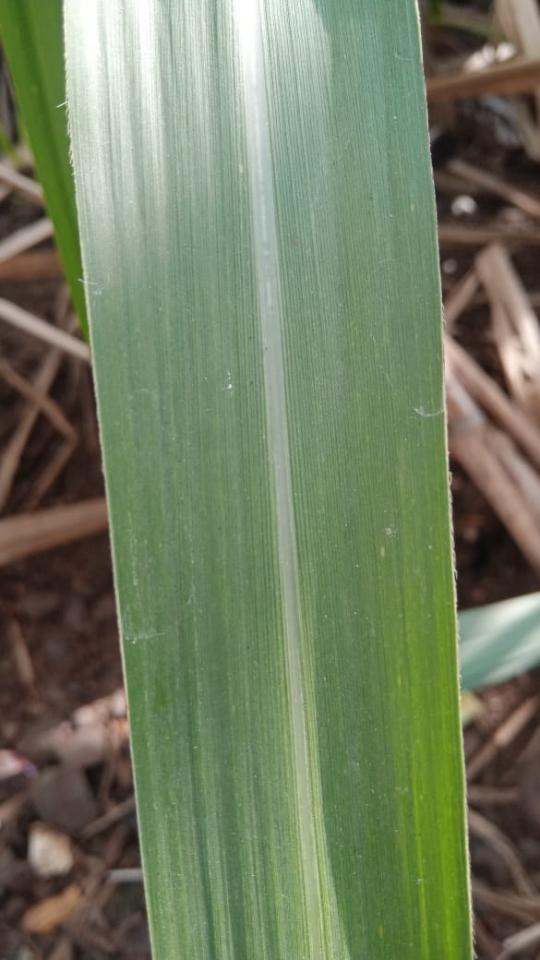Healthy: (64, 0, 472, 959)
